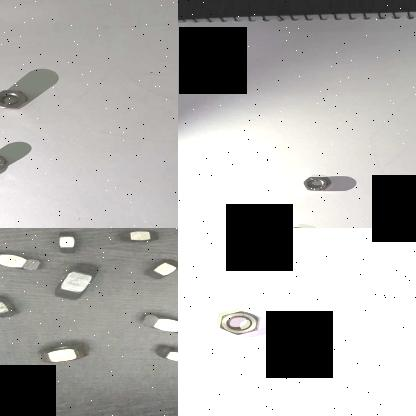NUTS: (48, 258, 108, 300), (26, 340, 94, 366), (214, 310, 262, 336), (138, 308, 178, 338), (0, 248, 49, 272), (131, 256, 178, 280), (51, 228, 87, 256), (0, 87, 37, 108), (119, 228, 164, 245), (144, 341, 178, 363), (0, 292, 19, 326), (300, 174, 332, 193), (0, 153, 9, 169)
